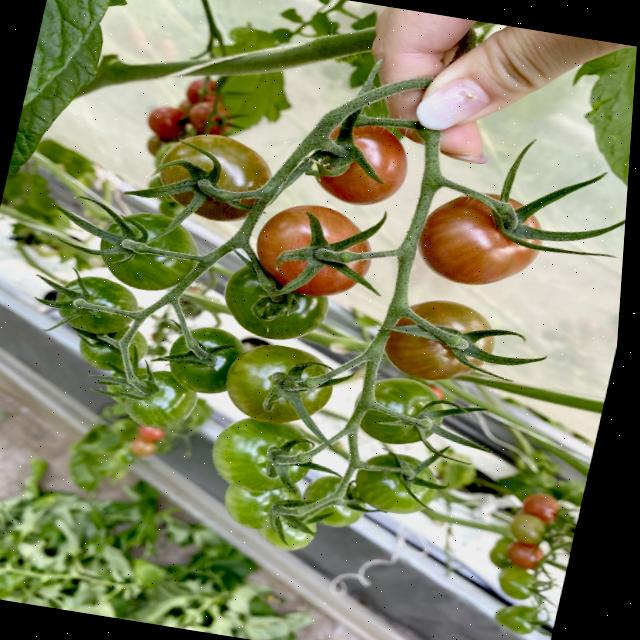ripe0: (219, 337, 340, 431), (91, 206, 205, 298), (203, 414, 320, 501), (347, 370, 449, 449), (350, 448, 445, 520), (51, 272, 141, 340), (118, 366, 203, 435), (165, 322, 242, 390)
ripe1: (149, 126, 269, 226), (381, 293, 501, 388)
ripe2: (410, 183, 549, 295), (247, 200, 381, 305), (309, 117, 415, 212)
